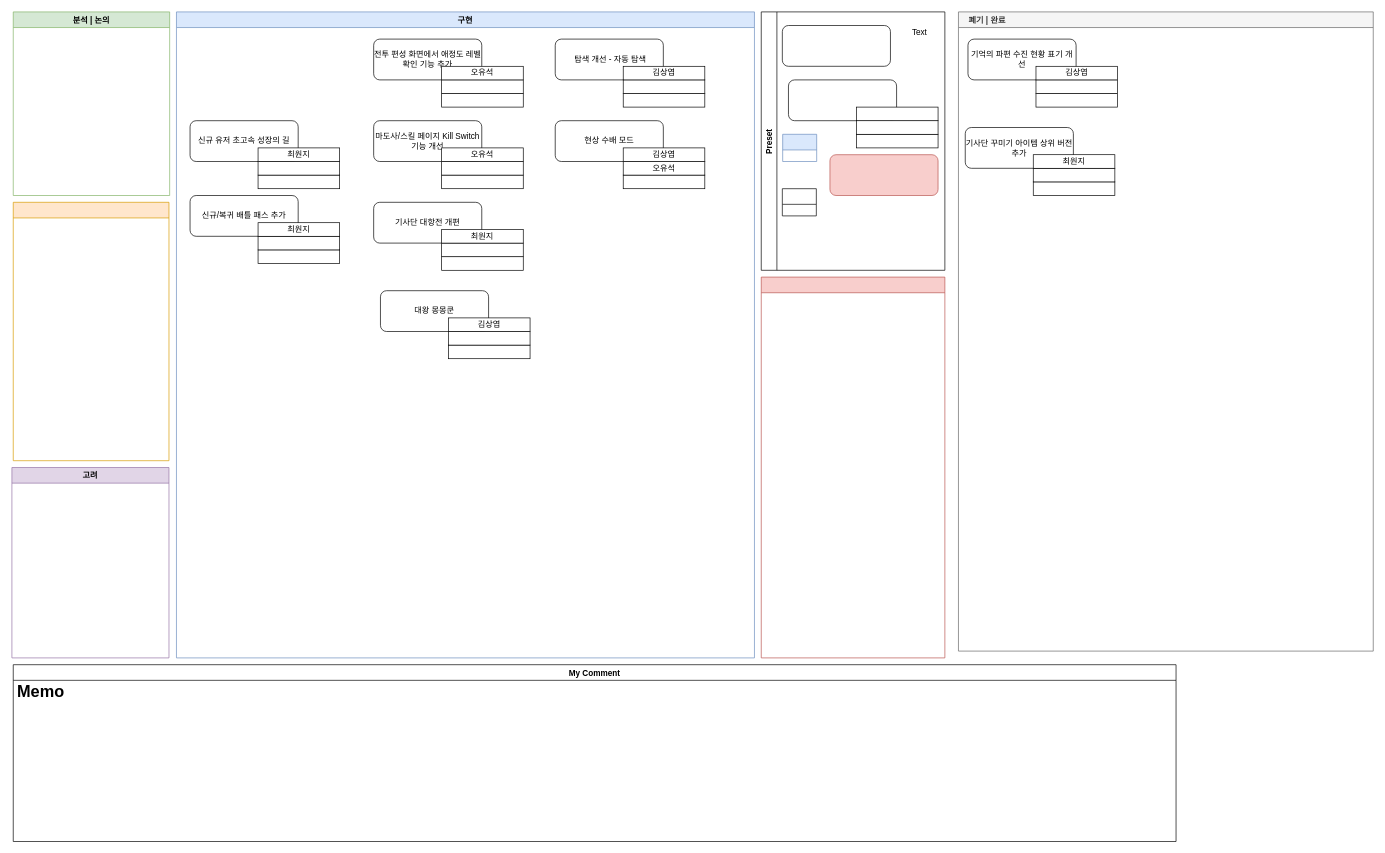
Image size: 1385x853. Some labels were removed from this diagram. Each missing label, with the centre of its shape:
"대기 | 요청" goes at [91,331].
"에러 | 수정" goes at [853,467].
